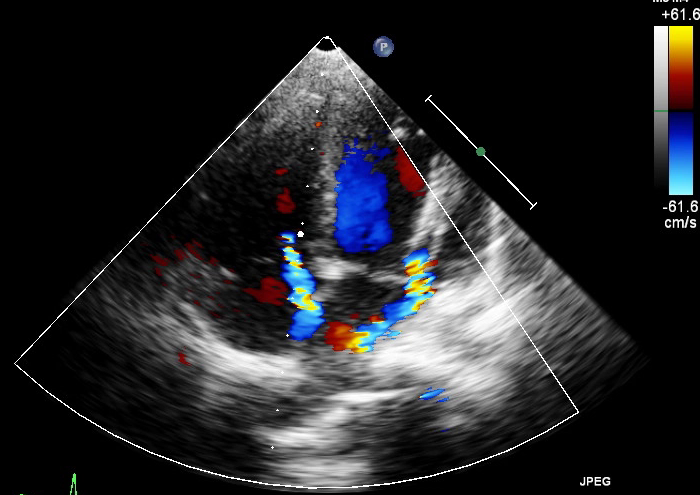TR: (202, 235, 317, 305)
